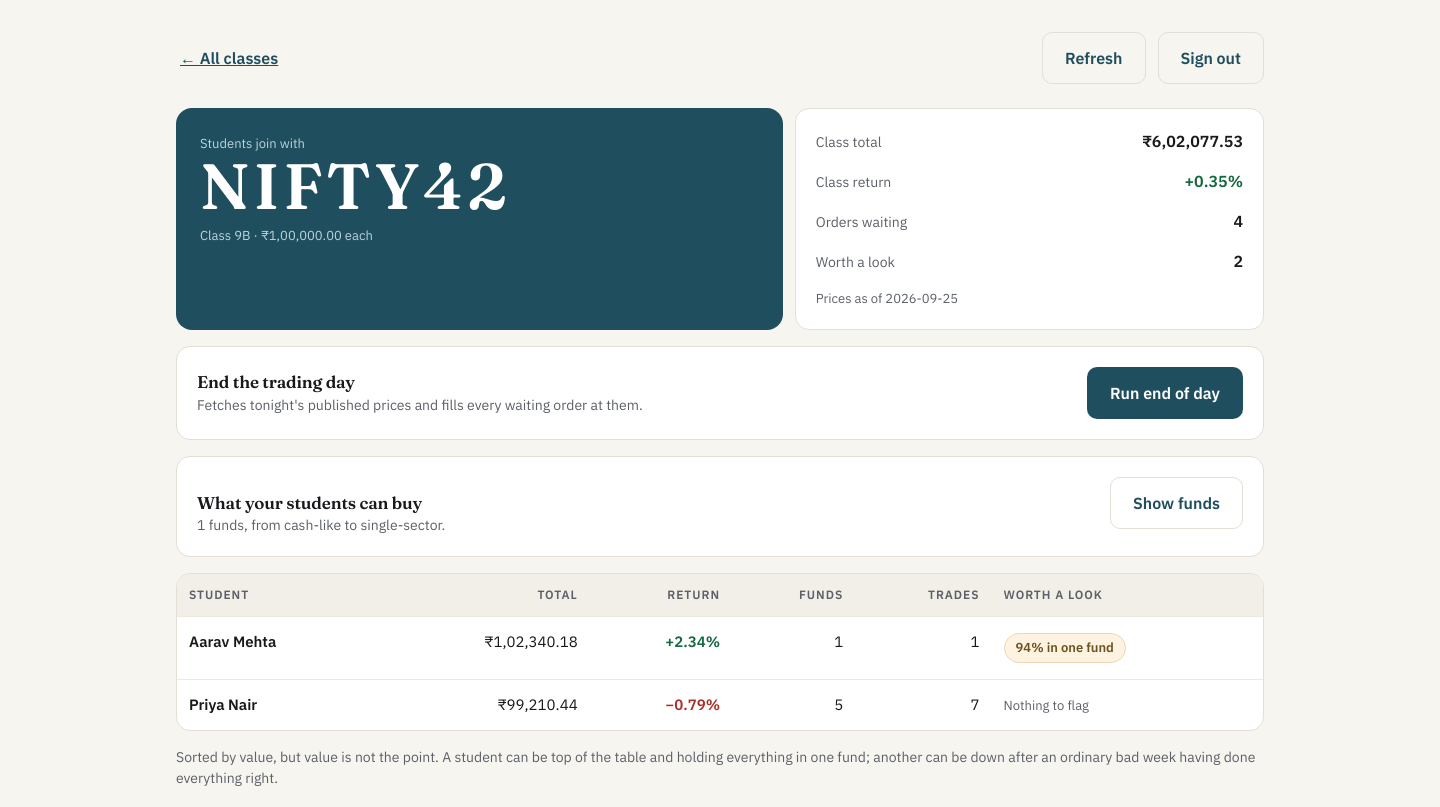
Test: teacher dashboard › lets the teacher see what her students can buy
The image size is (1440, 807).
Click the button "Show funds": {"x": 1177, "y": 502} [1110,476,1243,528]
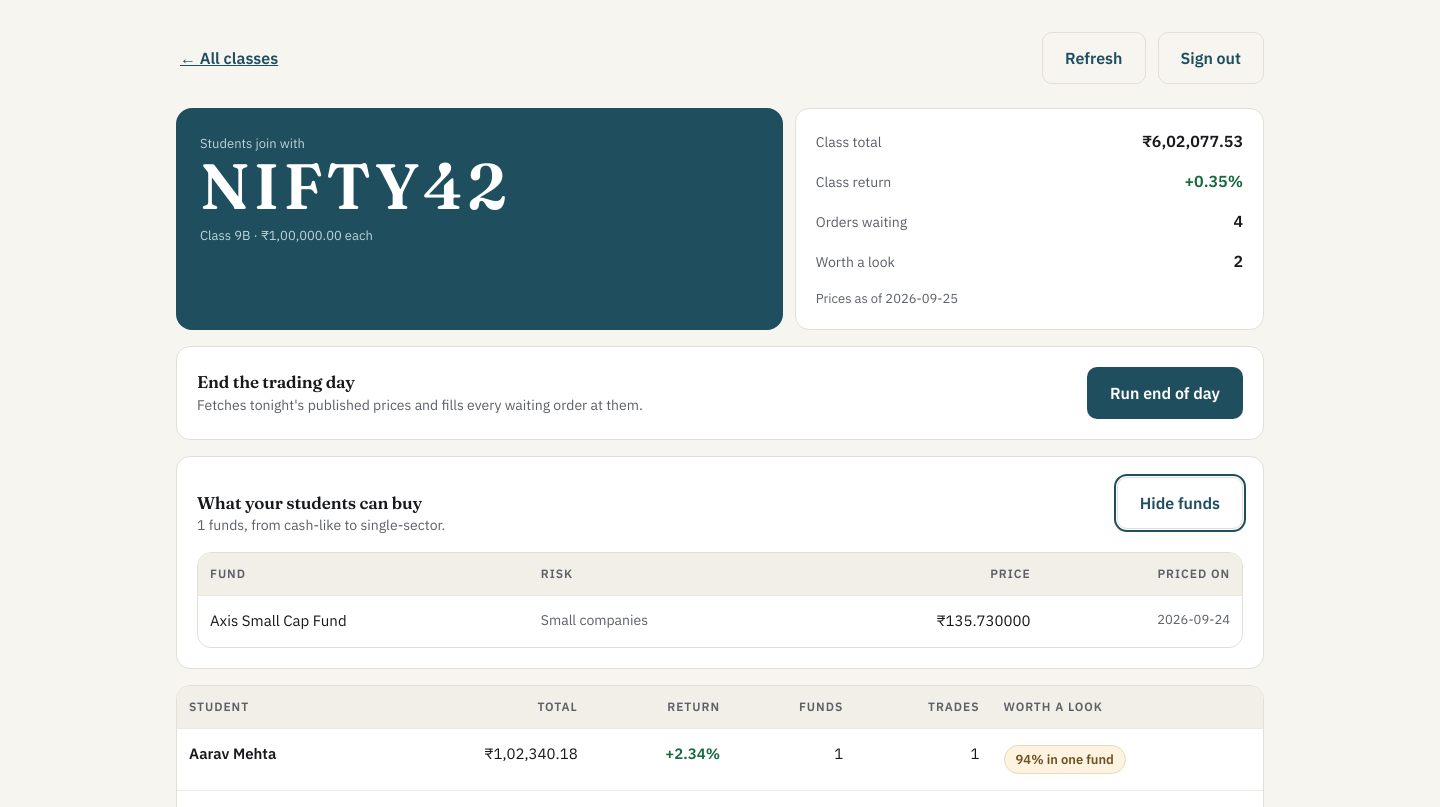
Expected: the text "Axis Small Cap Fund" is shown, [198,596,529,646]
Expected: the text "Small companies" is shown, [529,596,799,646]
